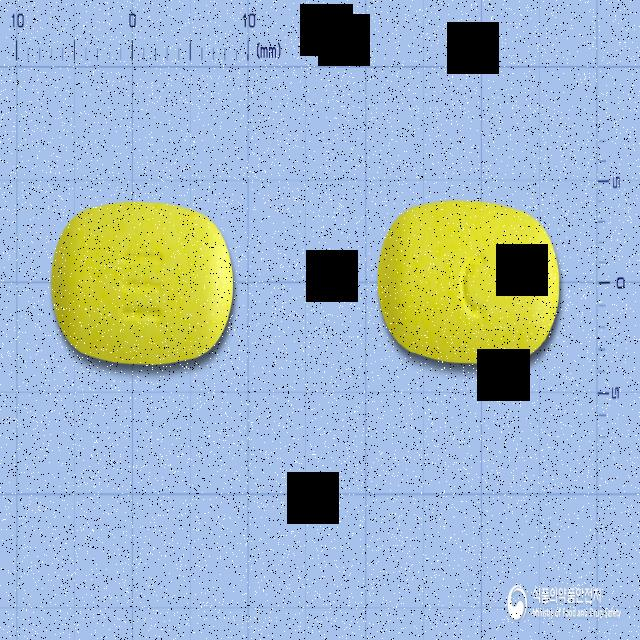Clararoxin: (49, 194, 238, 371), (375, 198, 566, 369)
